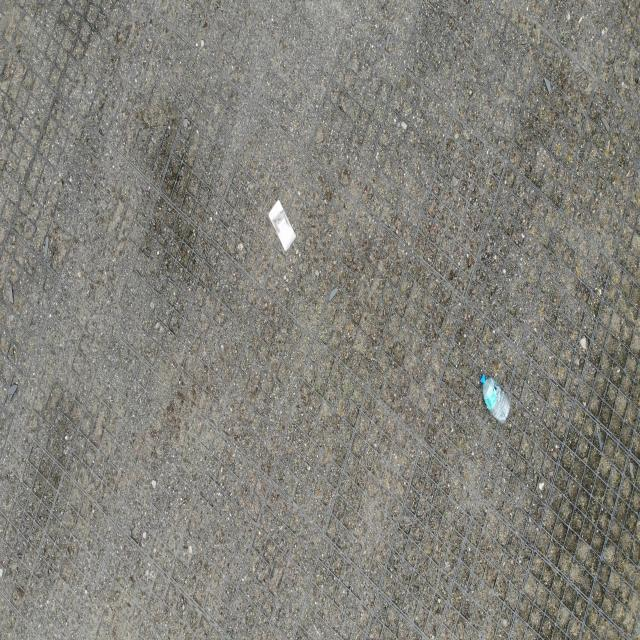rubbish: (267, 200, 297, 252), (482, 374, 511, 423)
